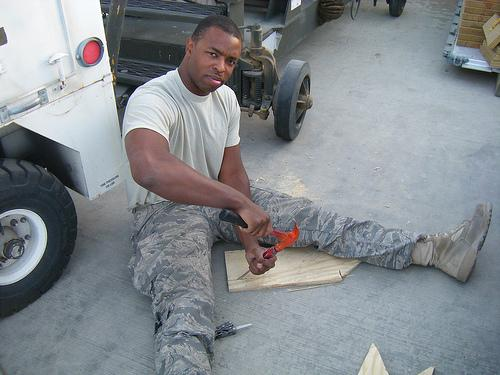hammer: (217, 207, 299, 251)
